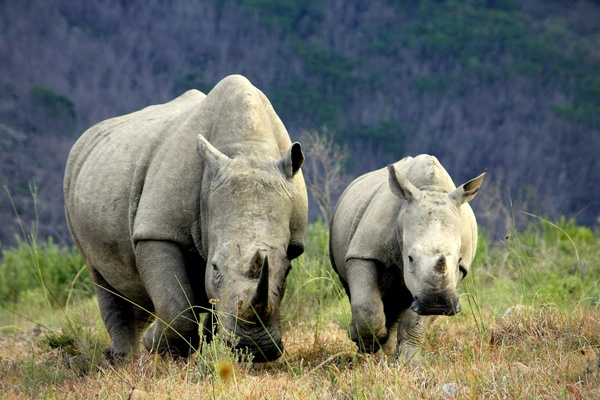rhino: (61, 70, 310, 368), (329, 153, 486, 366)
